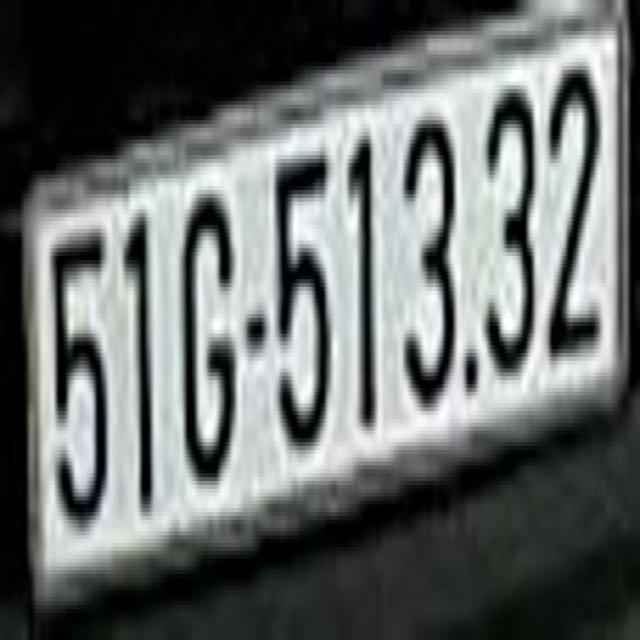1: (120, 194, 162, 531), (344, 112, 385, 434)
2: (545, 50, 607, 368)
3: (398, 109, 457, 415), (483, 70, 537, 376)
5: (272, 132, 334, 454), (48, 217, 110, 520)
G: (179, 170, 239, 492)
